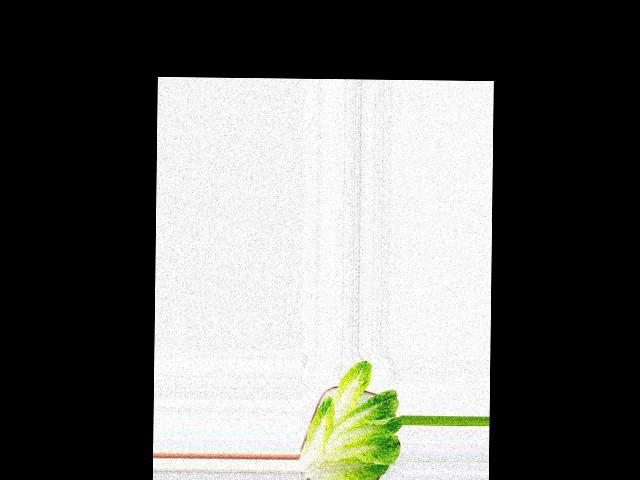lettuce: (318, 351, 427, 453)
